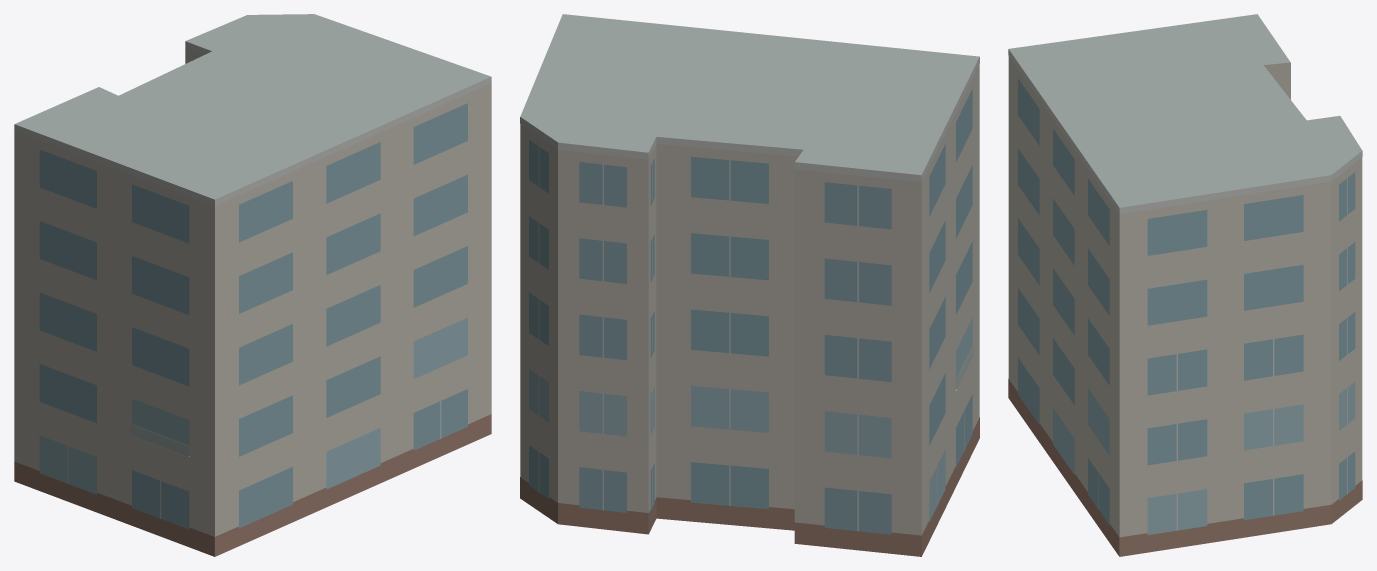
The model's file is survey-upis-32888397.glb.
3 renders of one model, left to right at view 1: azimuth 30°, elevation 25°; view 2: azimuth 150°, elevation 25°; view 3: azimuth 270°, elevation 25°, orthographic. The views are drawn at different scales.
Parts seen in each view (by area): view 1: survey-upis-32888397.tmp; view 2: survey-upis-32888397.tmp; view 3: survey-upis-32888397.tmp.
Part boxes in pixels (x1,y1,x2,y2): survey-upis-32888397.tmp: (14, 14, 491, 556); survey-upis-32888397.tmp: (520, 14, 979, 556); survey-upis-32888397.tmp: (1008, 14, 1362, 556).
Bounding box in the file's own units: 15.73 × 13.2 × 12.14.
